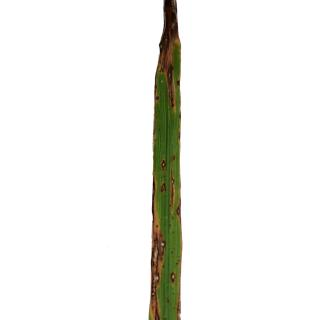Blast: (156, 0, 179, 74), (150, 227, 166, 288), (149, 288, 163, 320), (151, 174, 158, 227), (166, 63, 175, 88), (175, 195, 182, 225), (169, 270, 181, 287), (170, 172, 173, 206), (158, 158, 166, 170), (160, 183, 168, 194), (178, 286, 180, 320)
